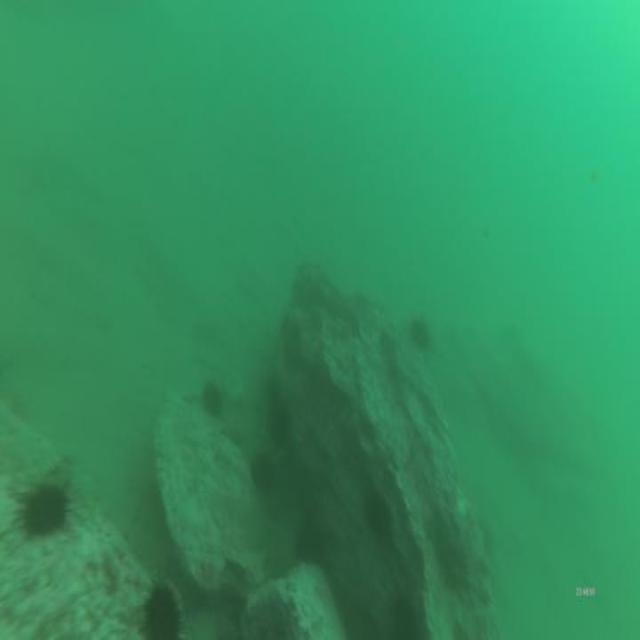echinus: (16, 482, 72, 542), (136, 575, 184, 640), (341, 594, 383, 640), (362, 484, 394, 542), (384, 592, 419, 640), (267, 402, 296, 454), (249, 446, 278, 496), (294, 530, 326, 570), (406, 315, 432, 357), (200, 379, 224, 419)
